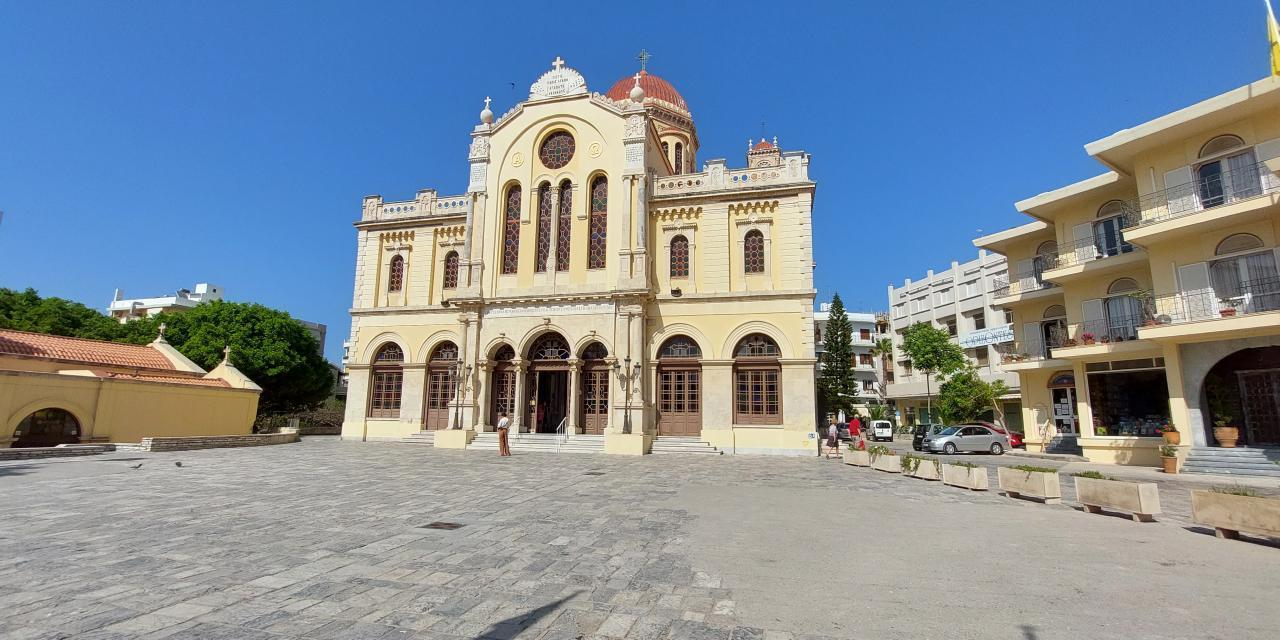Agios Minas: (347, 43, 833, 465)
